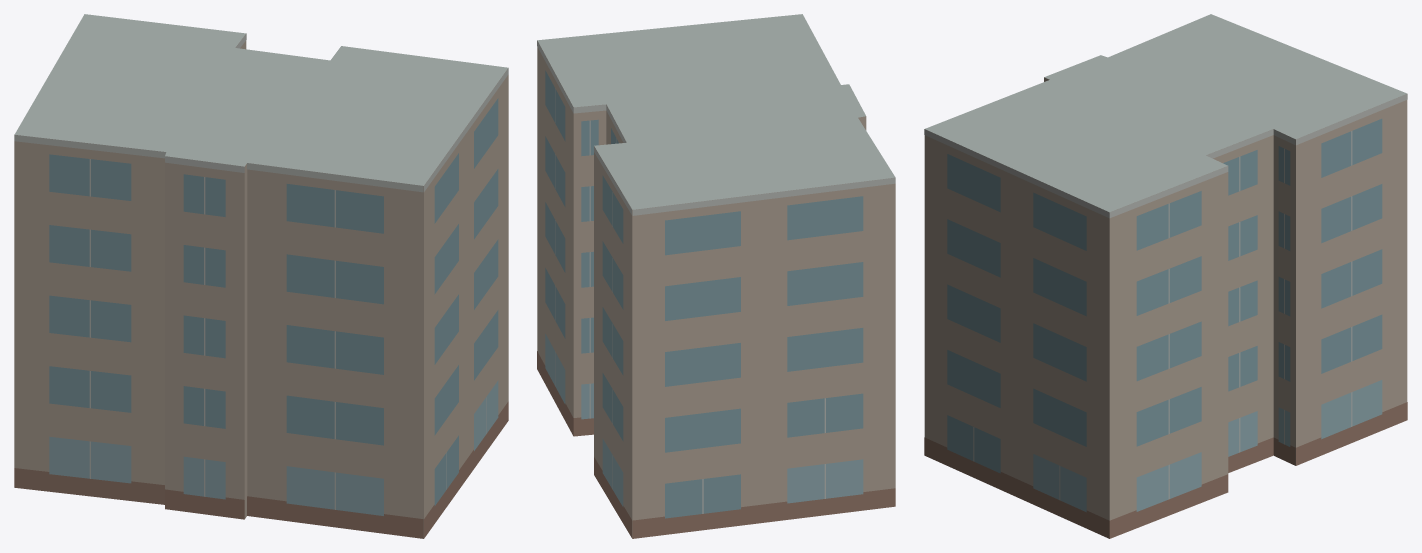
File: survey-upis-32884119.glb
3 views of the same model, side by side, from view 1: azimuth 30°, elevation 25°; view 2: azimuth 150°, elevation 25°; view 3: azimuth 270°, elevation 25° (orthographic). The views are drawn at different scales.
Parts seen in each view (by area): view 1: survey-upis-32884119.tmp; view 2: survey-upis-32884119.tmp; view 3: survey-upis-32884119.tmp.
Boxes of the visible parts, x1,y1,x2,y2 form: survey-upis-32884119.tmp: (14,14,508,538); survey-upis-32884119.tmp: (537,14,895,538); survey-upis-32884119.tmp: (924,14,1407,538).
Size of the model in its own units: 17.2 by 13.2 by 17.7.
